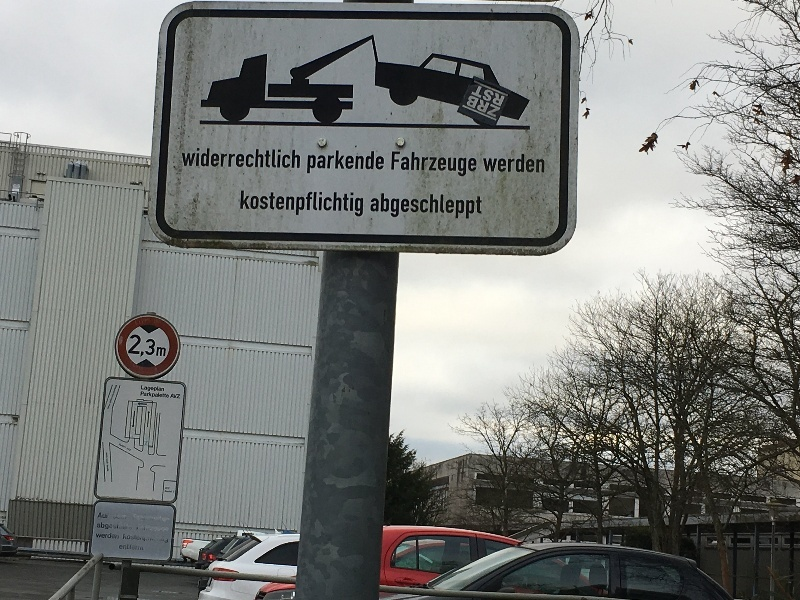text: (145, 334, 160, 362), (241, 190, 256, 218), (257, 190, 272, 218), (273, 190, 288, 218), (289, 190, 304, 218), (305, 190, 320, 218), (321, 190, 336, 218), (337, 190, 352, 218), (385, 193, 400, 220), (401, 193, 416, 220), (417, 193, 432, 220), (433, 193, 448, 220), (449, 193, 464, 220), (465, 193, 480, 220), (321, 150, 336, 176), (337, 150, 352, 176), (353, 150, 368, 176), (369, 150, 384, 176), (401, 151, 416, 177), (417, 151, 432, 177), (433, 151, 448, 177), (449, 151, 464, 177), (131, 334, 144, 362), (481, 95, 496, 119), (481, 84, 496, 107), (529, 152, 545, 173), (372, 193, 384, 220), (193, 148, 208, 169), (209, 148, 224, 169), (225, 148, 240, 169), (241, 148, 256, 169), (257, 148, 272, 169), (273, 148, 288, 169), (481, 152, 496, 173), (497, 152, 512, 173), (513, 152, 528, 173), (308, 150, 320, 176), (465, 151, 477, 177), (353, 190, 364, 218), (181, 148, 192, 169), (289, 148, 300, 169), (471, 95, 480, 119), (392, 151, 400, 177), (497, 84, 505, 107), (161, 334, 167, 362), (129, 534, 144, 544), (145, 534, 160, 544), (145, 514, 160, 523), (113, 522, 128, 531), (98, 522, 112, 531), (145, 385, 160, 393), (106, 452, 112, 472), (145, 525, 160, 533), (145, 392, 160, 399), (97, 532, 112, 539), (497, 95, 501, 119), (476, 84, 480, 107), (134, 514, 144, 523), (129, 544, 144, 550), (161, 514, 170, 523), (120, 443, 128, 452), (100, 513, 112, 519), (161, 534, 168, 544), (161, 525, 169, 533), (161, 392, 169, 399), (114, 515, 128, 519), (137, 525, 144, 533), (119, 544, 128, 550), (113, 532, 119, 539), (124, 534, 128, 544), (129, 443, 132, 452), (129, 522, 132, 531), (481, 193, 482, 220), (161, 385, 164, 393), (141, 392, 144, 399), (172, 394, 176, 399), (177, 394, 181, 399), (142, 385, 144, 393)
